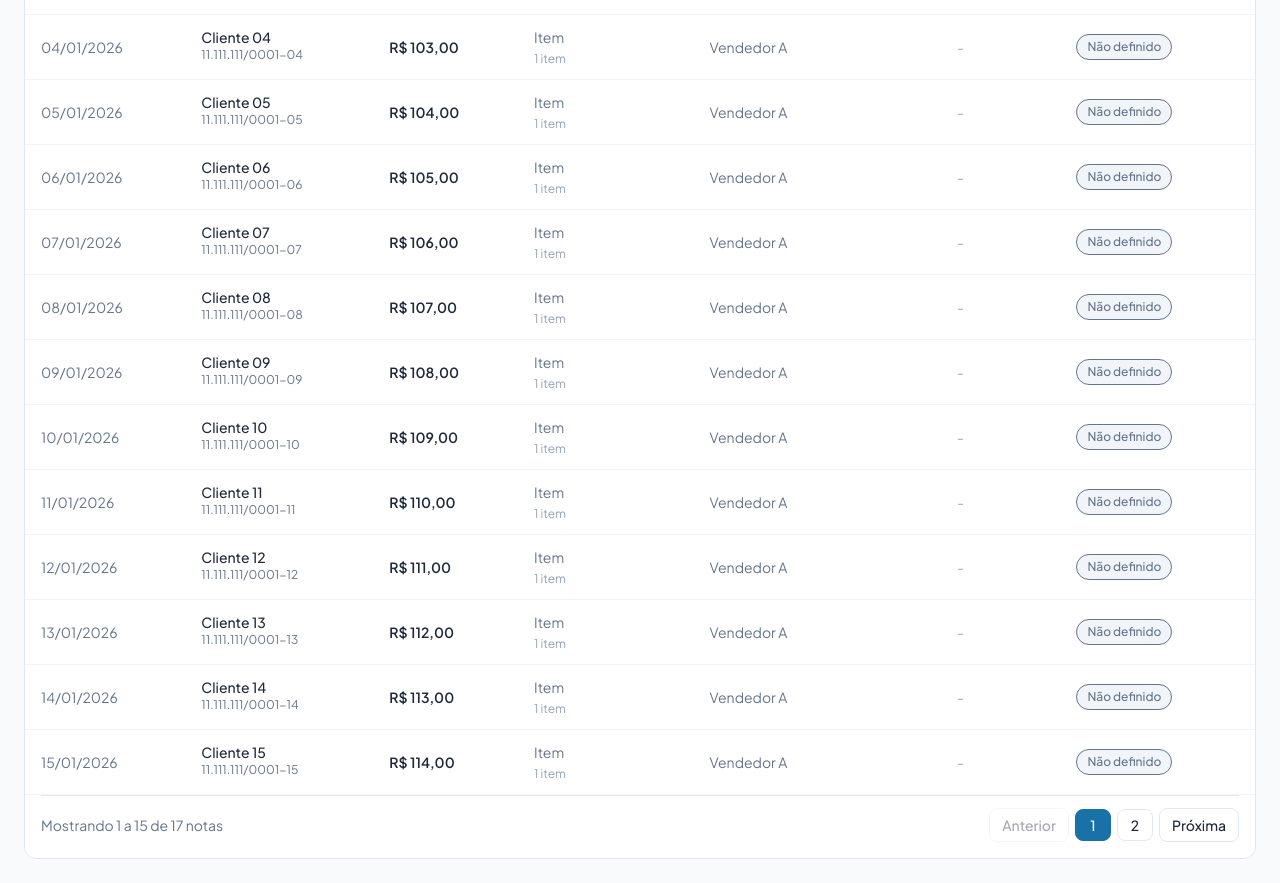
Test: paginacao em Vendedores › Proximo leva a segunda pagina, que tem o resto
(page scrolled)
Click the button "Próxima".
click(1199, 825)  # box [1159,808,1239,842]
(page scrolled)
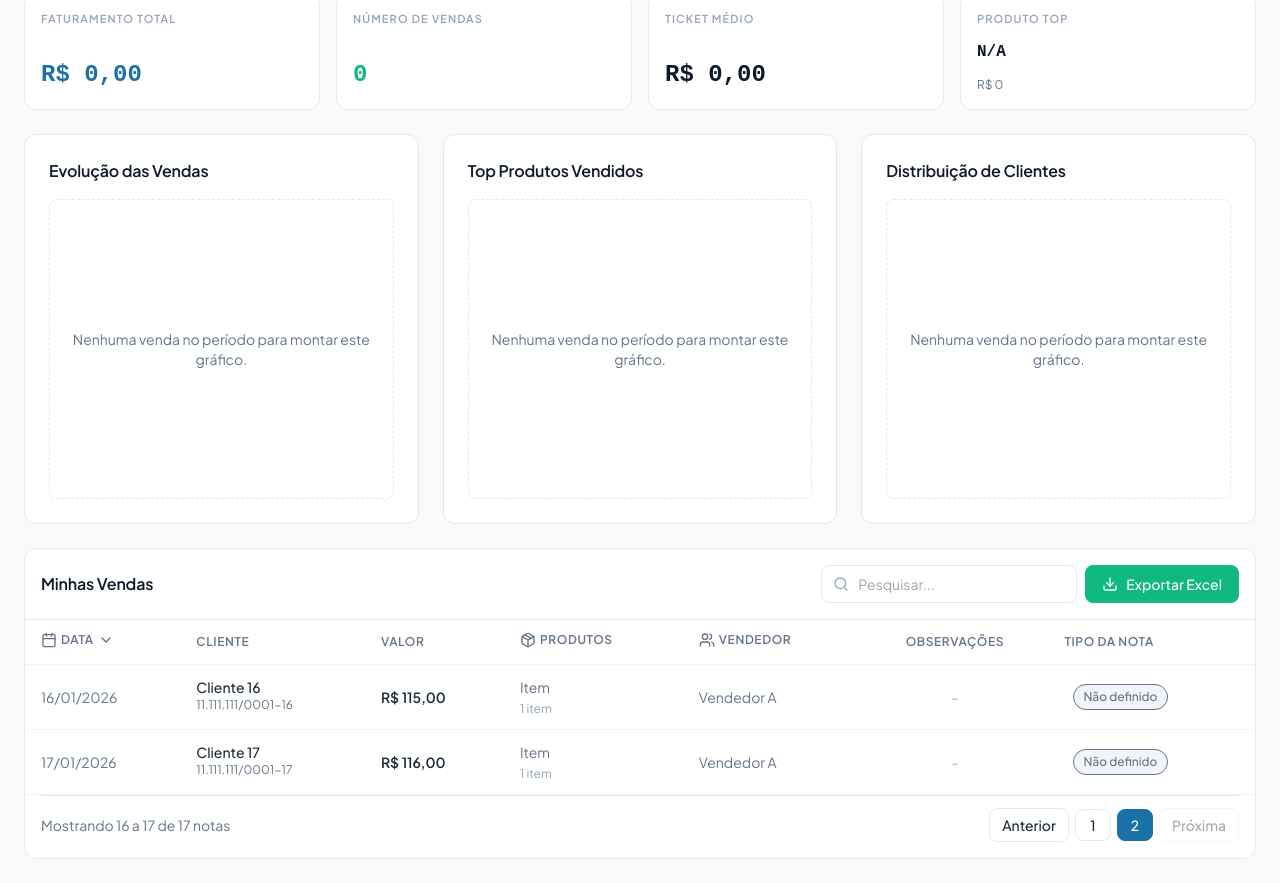
Result: the text "Mostrando 16 a 17 de 17 notas" is shown at [41,815,230,835]
